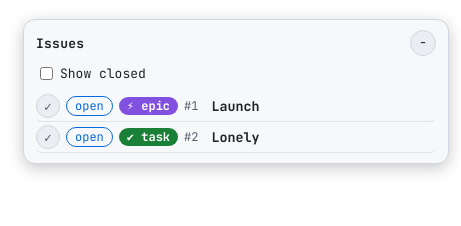
Test: IssuesPanel › selects, toggles and clears, showing module count
The width and height of the screenshot is (461, 226).
Step 1. Click the button with aria-label "Select issue Launch" → (320, 106), box top-left (204, 94), bottom-right (436, 118)
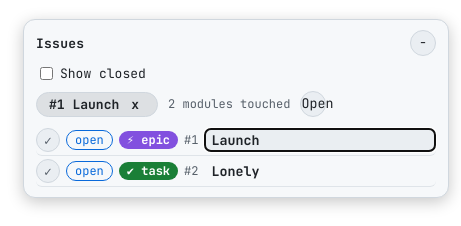
expect the text "2 modules touched" is shown: met, box top-left (168, 96), bottom-right (290, 112)
Step 2. Click the button with aria-label "Select issue Launch" → (320, 140), box top-left (204, 128), bottom-right (436, 152)
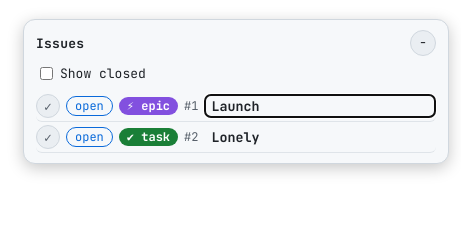
expect the element with test id "issue-selection" is gone: met
Step 3. Click the button with aria-label "Select issue Lonely" → (320, 137), box top-left (204, 125), bottom-right (436, 149)
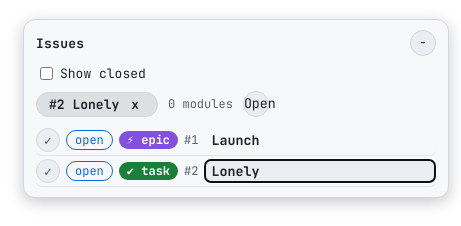
expect the text "0 modules" is shown: met, box top-left (168, 96), bottom-right (233, 112)
Step 4. Click the button named "Clear selection" → (135, 104), box top-left (125, 98), bottom-right (145, 110)
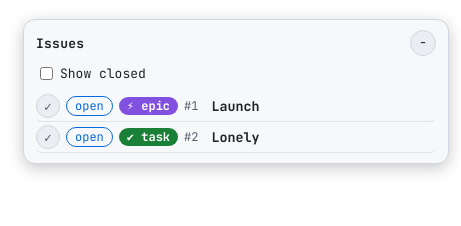
expect the element with test id "issue-selection" is gone: met
